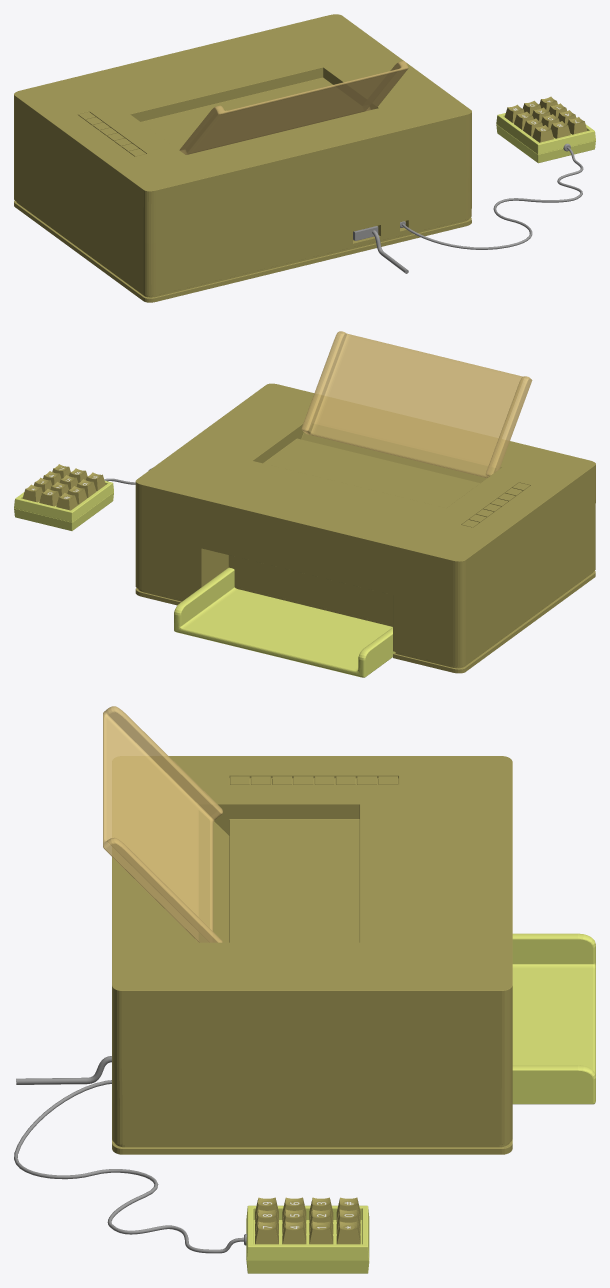
Rendered from pavenum.fbx.
3 renders of one model, top to bottom at view 1: azimuth 30°, elevation 25°; view 2: azimuth 150°, elevation 25°; view 3: azimuth 270°, elevation 25°, orthographic. The views are drawn at different scales.
Parts seen in each view (by area): view 1: Imprimante, Sortie, Base, Chemin_fil; view 2: Imprimante, Sortie, Entree, Base; view 3: Imprimante, Sortie, Entree, Base, Chemin_fil, FilAlim.
Part boxes in pixels (x1,y1,x2,y2): Imprimante: (14, 14, 471, 302); Sortie: (179, 61, 408, 154); Base: (496, 113, 595, 163); Chemin_fil: (402, 147, 583, 249); Imprimante: (135, 383, 595, 673); Sortie: (301, 331, 532, 477); Entree: (174, 567, 395, 677); Base: (14, 480, 113, 530); Imprimante: (112, 756, 512, 1154); Sortie: (103, 706, 222, 942); Entree: (512, 933, 595, 1104); Base: (246, 1205, 369, 1273); Chemin_fil: (14, 1080, 243, 1253); FilAlim: (16, 1056, 111, 1084).
Size of the model in its own units: 64.93 by 22.72 by 45.01.
